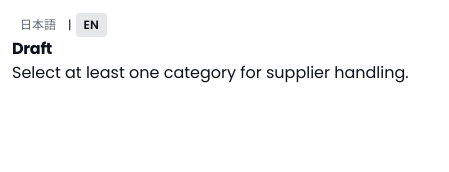
Scenario: supplier language persistence and isolation › switches EN ↔ Japanese without changing the public site preference
This screenshot has width=449, height=172.
expect the heading reads "Draft": met, box 12,37 -> 52,60
Click the button "日本語": (38, 25) 12,13 -> 64,37
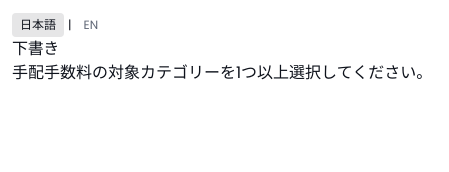
expect the heading reads "下書き": met, box 12,37 -> 59,60
expect the text "手配手数料の対象カテゴリーを1つ以上選択してください。" is shown: met, box 12,61 -> 432,84
Click the button "EN": (91, 25) 76,13 -> 106,37
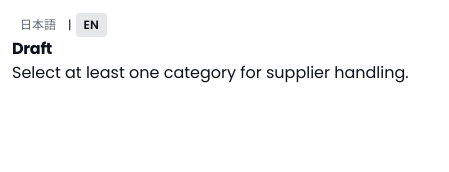
expect the heading reads "Draft": met, box 12,37 -> 52,60
